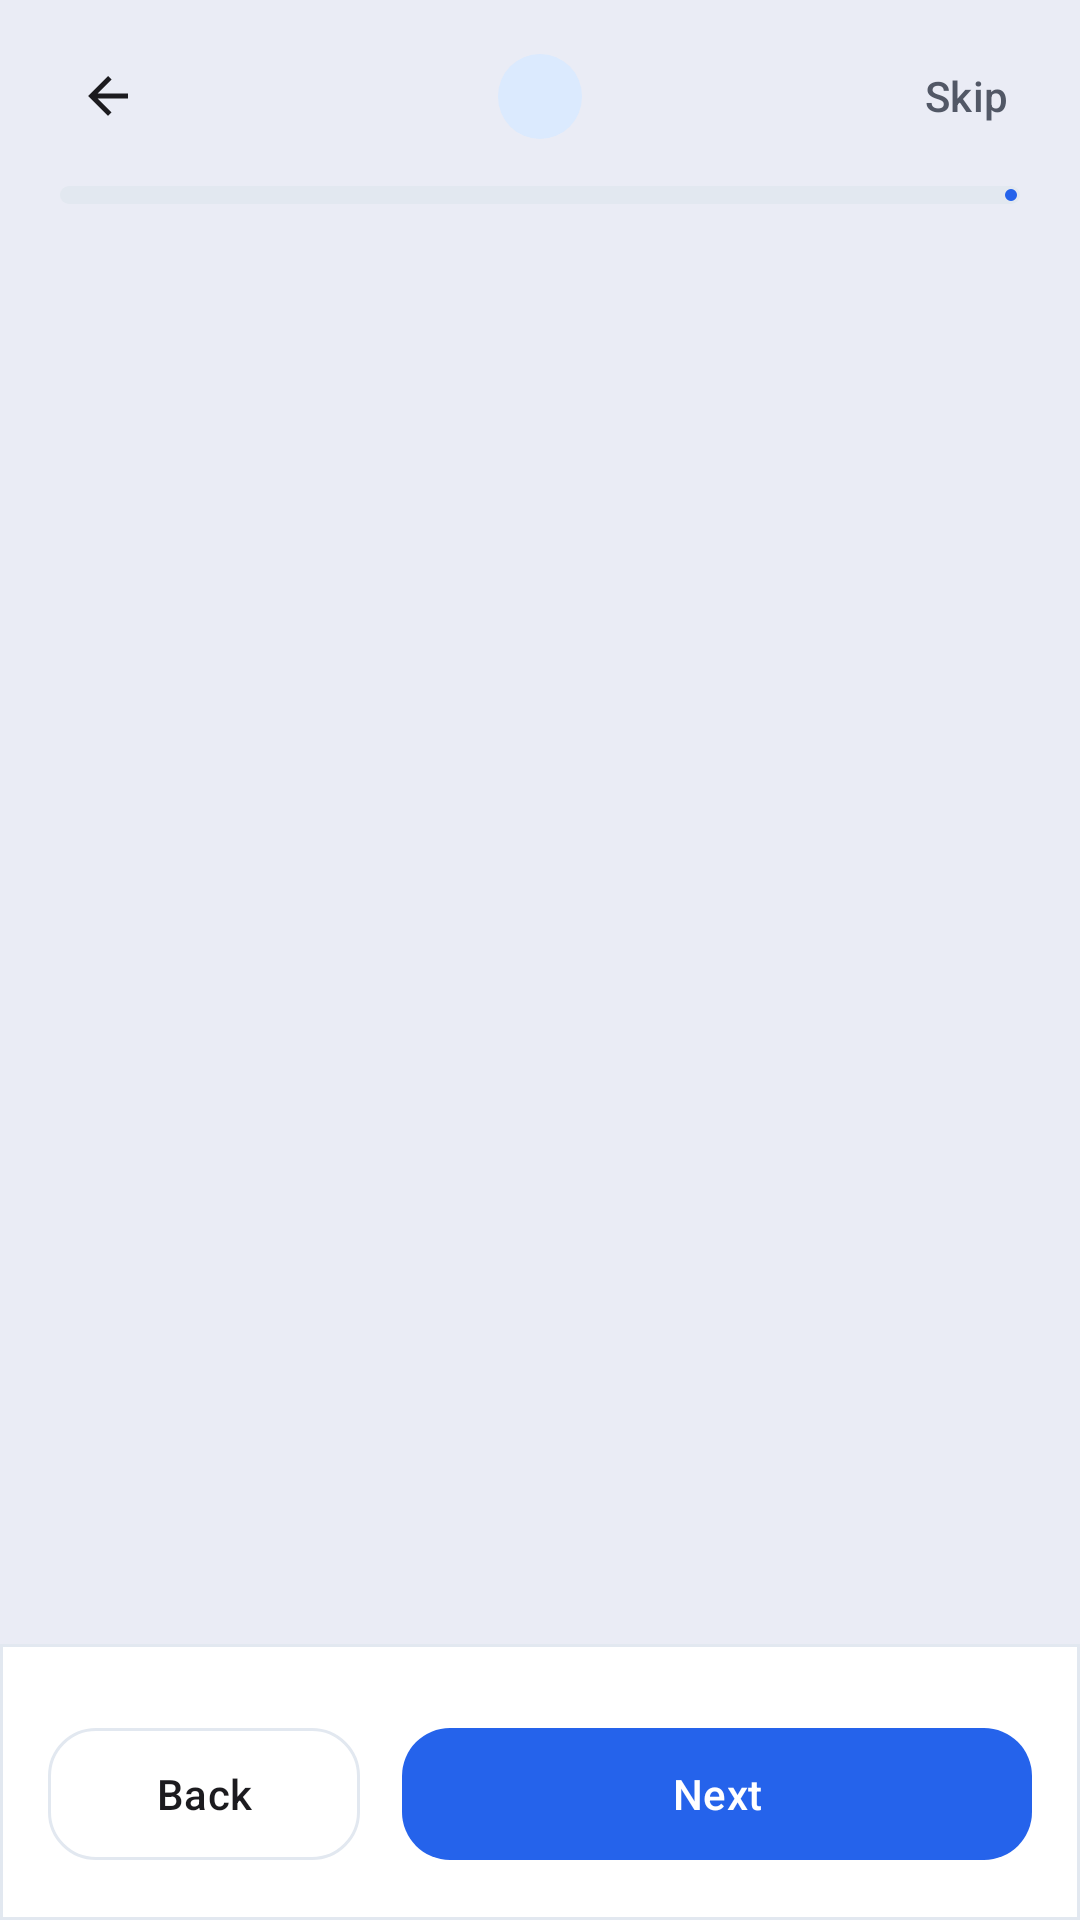

Icons on this 1080 x 1920 Android screen, each with its box as bbox=(x1, y1, x2, y2):
Back: bbox=(88, 76, 128, 116)
